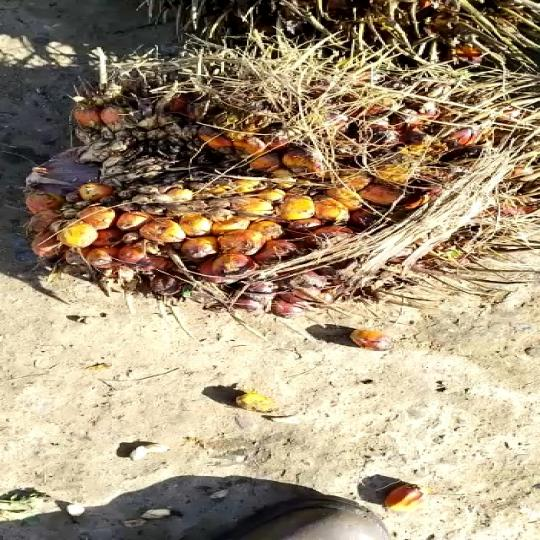terlalu masak: (0, 39, 540, 311)
